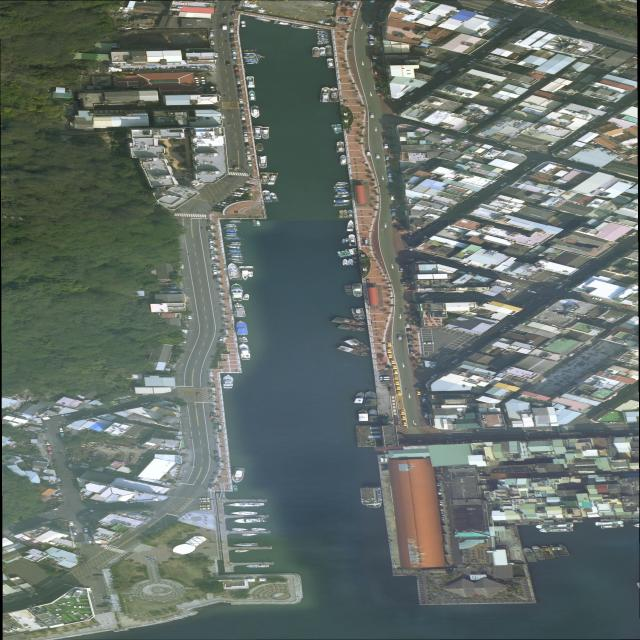large-vehicle: (246, 76, 255, 88), (222, 25, 227, 30)
ship: (360, 486, 384, 508), (336, 345, 372, 357), (344, 338, 374, 352), (331, 317, 367, 327), (549, 544, 570, 557), (530, 545, 546, 561), (337, 324, 368, 332), (230, 283, 243, 301), (535, 523, 574, 529), (522, 548, 538, 562), (235, 320, 249, 335), (226, 263, 240, 278), (231, 468, 245, 483), (540, 545, 555, 559), (238, 344, 251, 360), (233, 518, 267, 524), (225, 502, 265, 507), (232, 303, 246, 317), (351, 308, 367, 320), (364, 391, 376, 406), (539, 527, 573, 532), (222, 375, 234, 389), (320, 87, 331, 102), (351, 284, 363, 297), (353, 392, 366, 404), (595, 521, 624, 526), (267, 173, 278, 186), (369, 409, 379, 423), (290, 24, 313, 30), (357, 409, 368, 421), (330, 88, 339, 102), (600, 524, 625, 529), (262, 190, 272, 202), (250, 106, 260, 118), (259, 156, 268, 169), (344, 285, 354, 296), (231, 511, 258, 515), (348, 234, 357, 246), (232, 543, 259, 547), (253, 126, 261, 139), (253, 17, 273, 22), (261, 173, 270, 184), (346, 220, 355, 231), (337, 141, 345, 153), (262, 127, 270, 139), (331, 124, 340, 134), (273, 21, 291, 26), (270, 192, 279, 202), (325, 45, 333, 56), (248, 90, 256, 101), (153, 291, 181, 294), (326, 59, 335, 68), (255, 143, 264, 152), (242, 270, 249, 281), (246, 565, 270, 568), (312, 47, 319, 57), (340, 155, 347, 165), (242, 56, 265, 59), (337, 124, 344, 133), (242, 294, 251, 300), (319, 47, 325, 56), (251, 528, 268, 531), (333, 200, 350, 203), (340, 250, 347, 257), (232, 528, 248, 531), (348, 210, 354, 218), (240, 21, 246, 29), (226, 237, 241, 240), (235, 550, 250, 553), (334, 204, 349, 207), (245, 60, 260, 63), (334, 195, 348, 198), (344, 249, 350, 256), (348, 249, 355, 255), (343, 210, 348, 218), (348, 258, 353, 266), (228, 246, 240, 249), (232, 261, 244, 264), (225, 230, 237, 233), (226, 228, 238, 231), (224, 224, 236, 227), (342, 259, 348, 265), (241, 337, 248, 342), (241, 534, 258, 536), (245, 54, 262, 56), (340, 210, 344, 218), (249, 272, 254, 278), (239, 266, 254, 268), (244, 59, 259, 61), (256, 220, 261, 226), (335, 182, 349, 184), (231, 259, 244, 261), (317, 41, 330, 43), (341, 238, 346, 243), (228, 221, 240, 223), (225, 235, 237, 237), (230, 244, 242, 246), (231, 256, 243, 258), (225, 226, 237, 228), (337, 192, 349, 194), (335, 184, 347, 186), (335, 189, 347, 191), (317, 42, 329, 44), (317, 37, 329, 39), (317, 31, 329, 33), (226, 233, 237, 235), (231, 242, 242, 244), (230, 251, 241, 253), (231, 254, 242, 256), (334, 187, 345, 189), (317, 36, 328, 38), (318, 39, 329, 41), (318, 34, 329, 36), (247, 62, 258, 64), (229, 250, 241, 251), (346, 238, 349, 242), (243, 53, 255, 54), (317, 33, 328, 34)
small-vehicle: (487, 36, 497, 41), (419, 293, 429, 298), (490, 16, 502, 20), (96, 604, 108, 608), (572, 134, 581, 139), (430, 374, 439, 379), (217, 203, 228, 207), (503, 17, 514, 21), (601, 306, 612, 310), (592, 297, 603, 301), (210, 209, 221, 213), (238, 187, 248, 191), (215, 205, 225, 209), (213, 207, 223, 211), (497, 142, 507, 146), (578, 130, 588, 134), (527, 290, 537, 294), (550, 275, 560, 279), (500, 182, 508, 187), (521, 148, 531, 152), (500, 28, 509, 32), (495, 32, 504, 36), (441, 67, 450, 71), (547, 142, 556, 146), (622, 304, 631, 308), (523, 167, 532, 171), (429, 364, 438, 368), (389, 206, 396, 211), (229, 38, 236, 43), (345, 2, 352, 7), (233, 192, 244, 195), (224, 200, 235, 203), (228, 196, 239, 199), (231, 194, 242, 197), (244, 184, 255, 187), (473, 11, 484, 14), (502, 289, 513, 292), (101, 602, 112, 605), (507, 145, 518, 148), (380, 376, 391, 379), (55, 492, 63, 496), (405, 101, 413, 105), (452, 359, 460, 363), (406, 247, 414, 251), (236, 190, 246, 193), (243, 186, 253, 189), (218, 337, 224, 342), (500, 291, 510, 294), (514, 6, 524, 9), (237, 89, 243, 94), (389, 195, 395, 200), (506, 288, 516, 291), (400, 410, 406, 415), (340, 17, 350, 20), (352, 3, 358, 8), (380, 378, 390, 381), (427, 260, 437, 263), (205, 227, 212, 231), (235, 85, 242, 89), (221, 202, 230, 205), (102, 595, 111, 598), (246, 155, 251, 160), (246, 149, 251, 154), (209, 244, 214, 249), (212, 270, 217, 275), (244, 137, 249, 142), (87, 539, 92, 544), (69, 521, 74, 526), (60, 433, 65, 438), (44, 425, 49, 430), (424, 413, 429, 418), (347, 46, 352, 51), (384, 144, 389, 149), (366, 151, 371, 156), (397, 391, 402, 396), (394, 375, 399, 380), (394, 370, 399, 375), (387, 342, 392, 347), (375, 154, 380, 159), (199, 505, 211, 507), (402, 422, 408, 426), (103, 598, 111, 601), (416, 391, 422, 395), (392, 365, 398, 369), (471, 440, 482, 442), (423, 342, 434, 344), (500, 329, 507, 332), (209, 239, 214, 243), (200, 498, 210, 500), (247, 162, 252, 166), (211, 255, 216, 259), (212, 265, 217, 269), (187, 315, 192, 319), (200, 508, 210, 510), (243, 132, 248, 136), (241, 115, 245, 120), (214, 53, 219, 57), (210, 32, 214, 37), (232, 50, 237, 54), (232, 55, 237, 59), (201, 500, 211, 502), (45, 441, 50, 445), (47, 446, 52, 450), (59, 428, 64, 432), (229, 22, 234, 26), (401, 416, 406, 420), (422, 398, 427, 402), (374, 70, 379, 74), (376, 91, 381, 95), (368, 24, 373, 28), (341, 2, 346, 6), (370, 114, 375, 118), (396, 386, 401, 390), (395, 381, 400, 385), (391, 360, 396, 364), (388, 354, 393, 358), (387, 349, 392, 353), (408, 339, 413, 343), (398, 335, 402, 340), (391, 212, 396, 216), (389, 178, 394, 182), (386, 161, 391, 165), (388, 174, 393, 178), (385, 156, 390, 160), (213, 275, 217, 279), (223, 14, 227, 18), (231, 44, 235, 48), (226, 61, 230, 65), (234, 65, 238, 69), (240, 104, 244, 108), (239, 99, 243, 103), (84, 528, 88, 532), (406, 324, 410, 328), (400, 268, 404, 272), (393, 218, 397, 222), (210, 250, 215, 253), (196, 393, 201, 396), (210, 41, 215, 44), (229, 29, 234, 32), (242, 121, 246, 124), (230, 34, 234, 37), (236, 76, 240, 79), (237, 81, 241, 84), (239, 94, 242, 98), (407, 329, 411, 332), (232, 12, 235, 15)
storage-tank: (5, 629, 12, 632), (25, 625, 30, 628), (12, 628, 19, 630)
